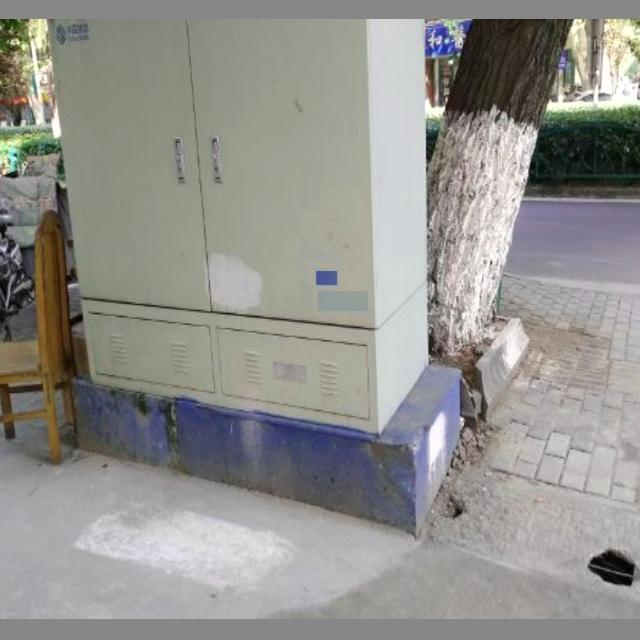broke: (437, 456, 640, 608)
